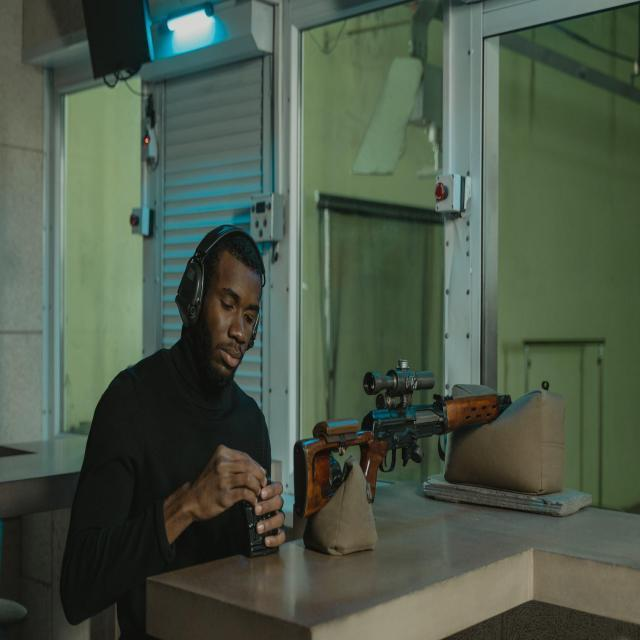weapon: (291, 358, 512, 520)
